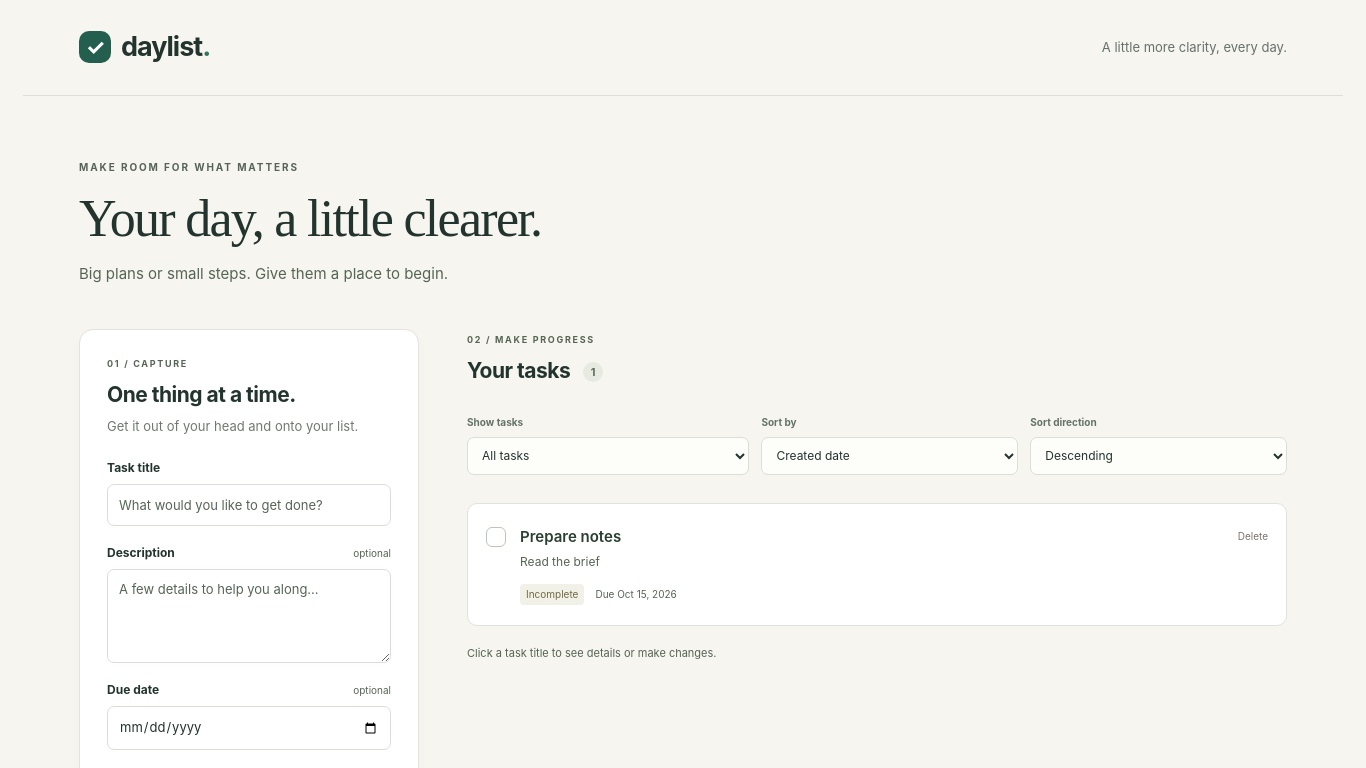
it: keeps a pending edit open and preserves the form if saving fails
This screenshot has width=1366, height=768.
Click the button "Prepare notes": [571, 537] box x1=520 y1=526 x2=621 y2=548
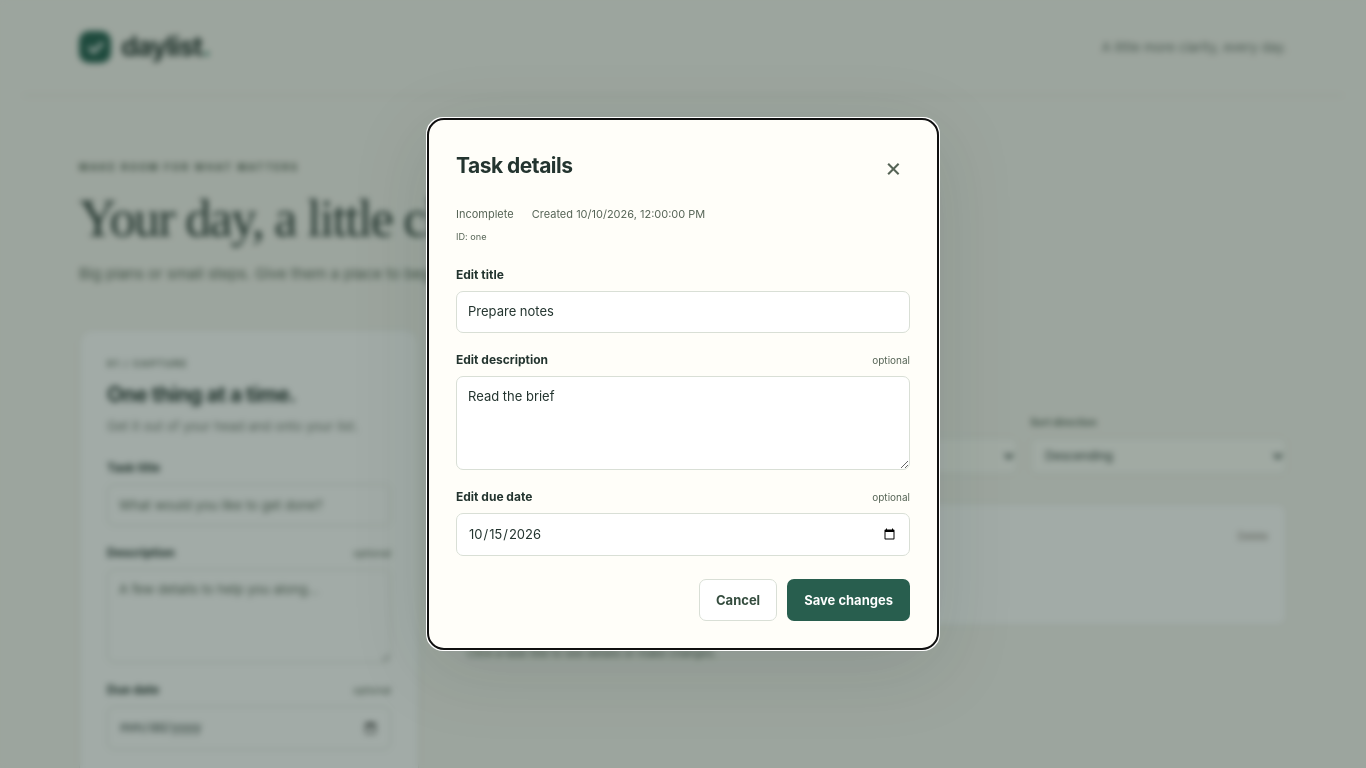
Replace the text in the field labelled "Edit title" with "Unsaved changes": [683, 312] box x1=456 y1=291 x2=910 y2=333
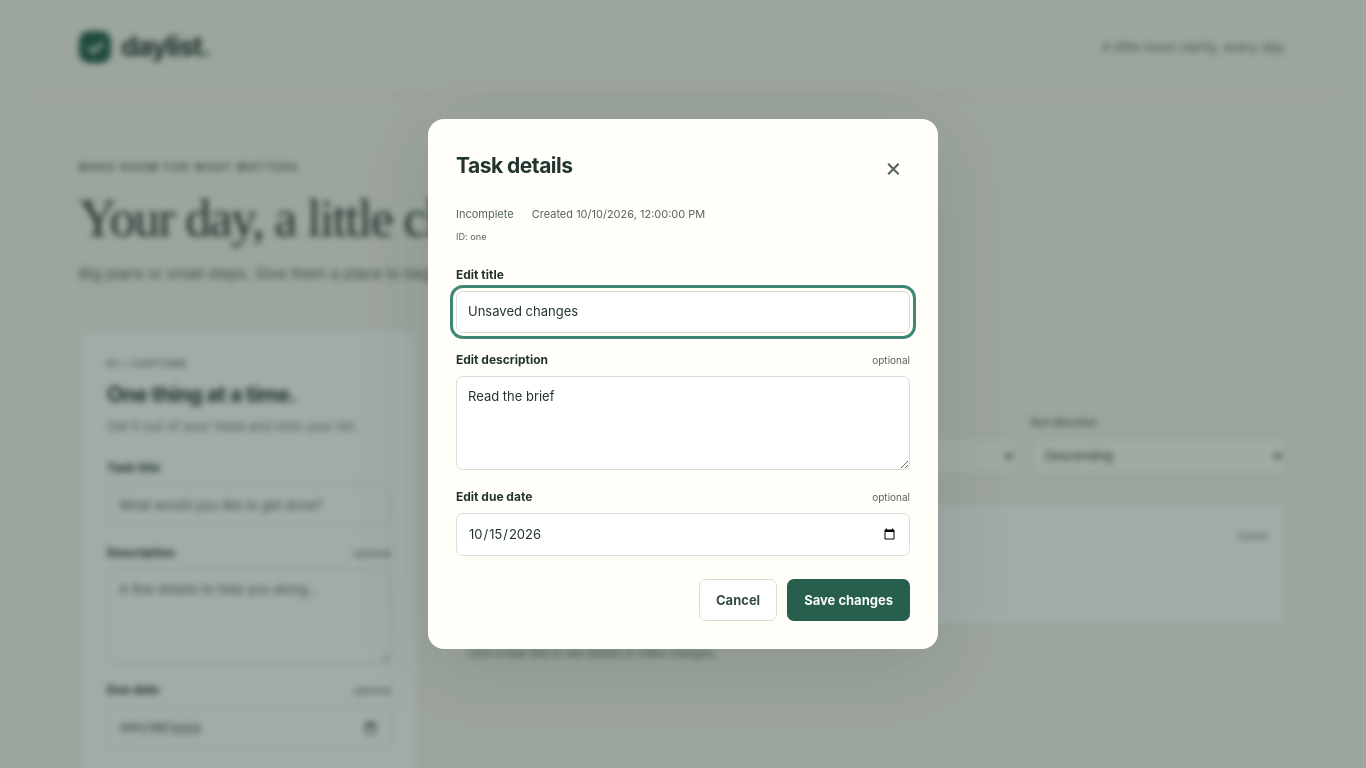
Click the button "Save changes": [849, 600] box x1=787 y1=579 x2=910 y2=621
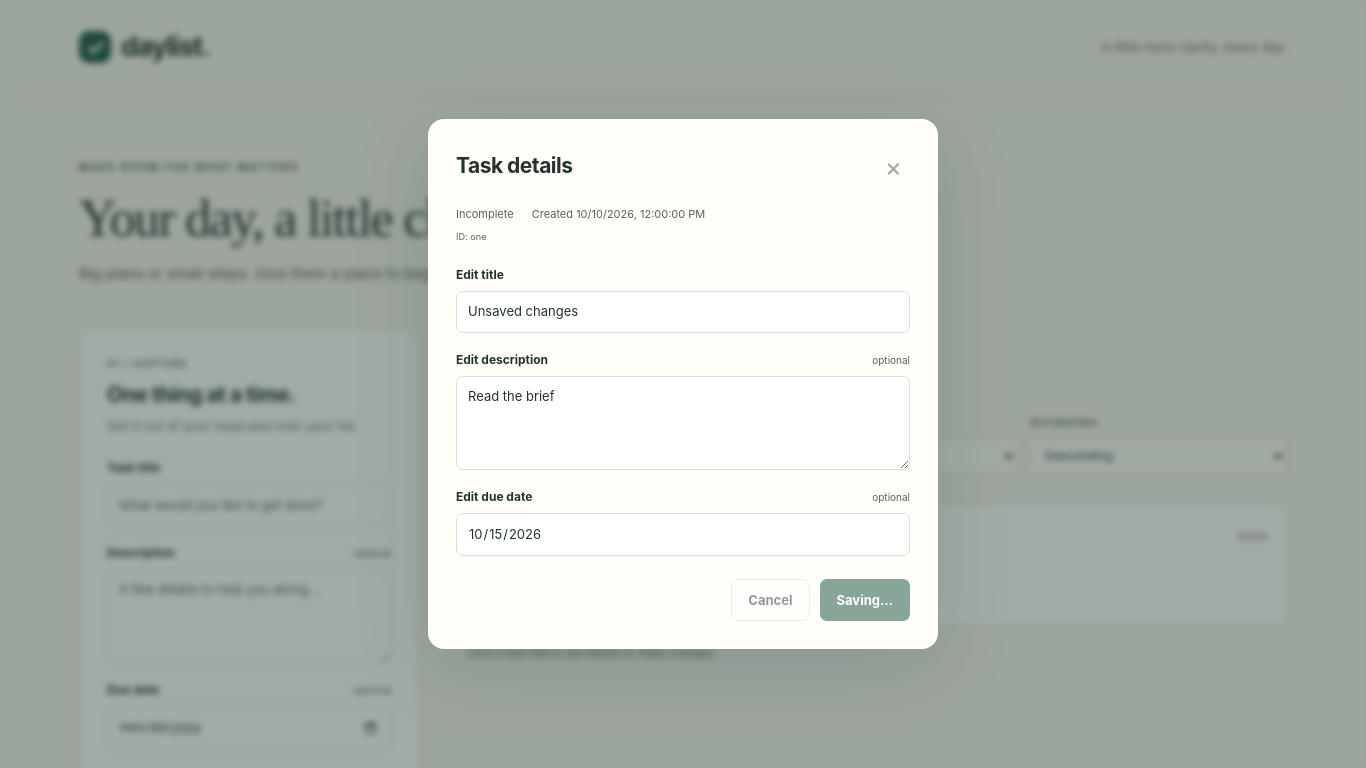
expect the button named "Close dialog" is disabled: met, box x1=877 y1=147 x2=910 y2=186
Press Escape
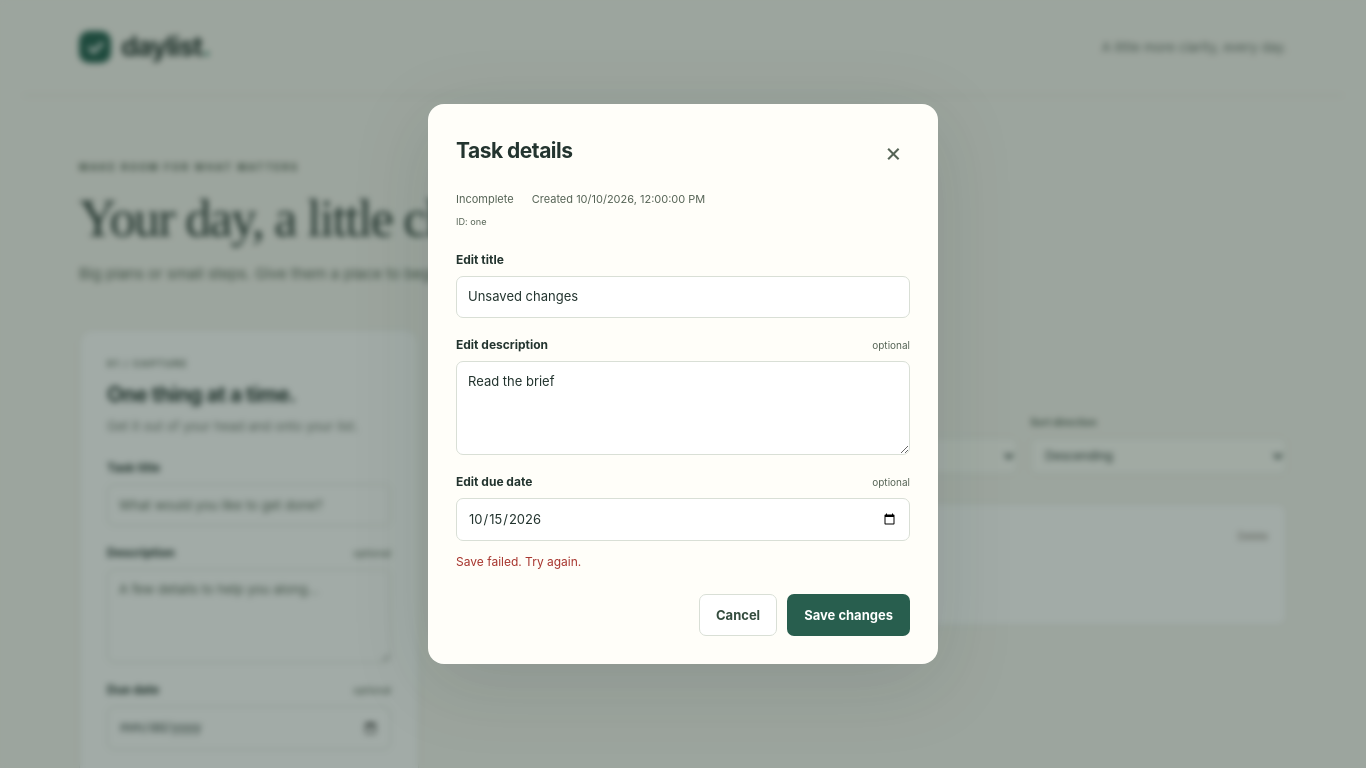
expect the dialog is shown: met, box x1=428 y1=104 x2=938 y2=664
expect the text "Save failed. Try again." is shown: met, box x1=456 y1=554 x2=581 y2=569
expect the button named "Close dialog" is enabled: met, box x1=877 y1=132 x2=910 y2=171
